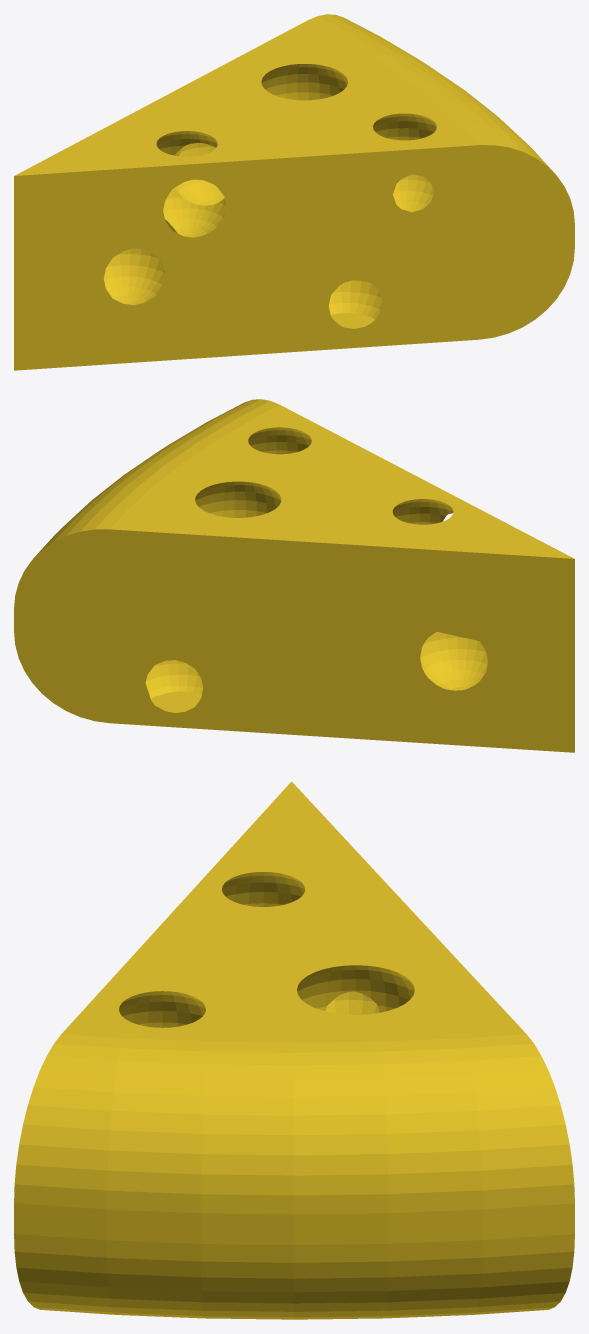
The model's file is CheeseBlock.fbx.
3 renders of one model, top to bottom at view 1: azimuth 30°, elevation 25°; view 2: azimuth 150°, elevation 25°; view 3: azimuth 270°, elevation 25°, orthographic. The views are drawn at different scales.
Visible parts, largest first — view 1: Circle; view 2: Circle; view 3: Circle.
Part boxes in pixels (x1,y1,x2,y2): Circle: (14, 14, 574, 370); Circle: (14, 399, 574, 752); Circle: (14, 781, 574, 1319).
Bounding box in the file's own units: 500 × 195 × 375.
